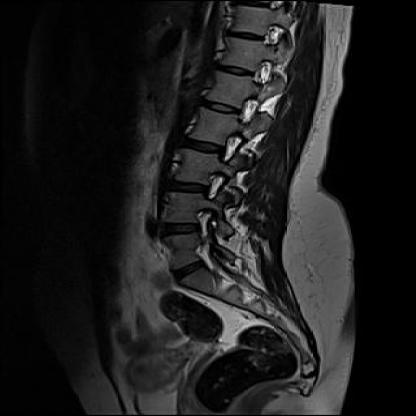Degenerative Disc Diseaserotation: (151, 218, 206, 242)
